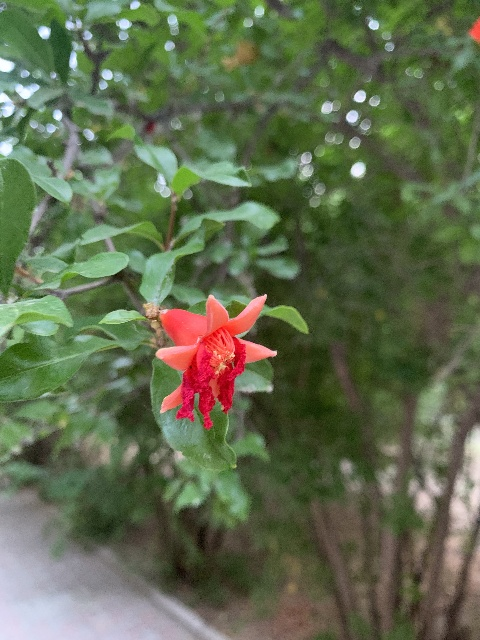flower: (153, 292, 276, 429)
